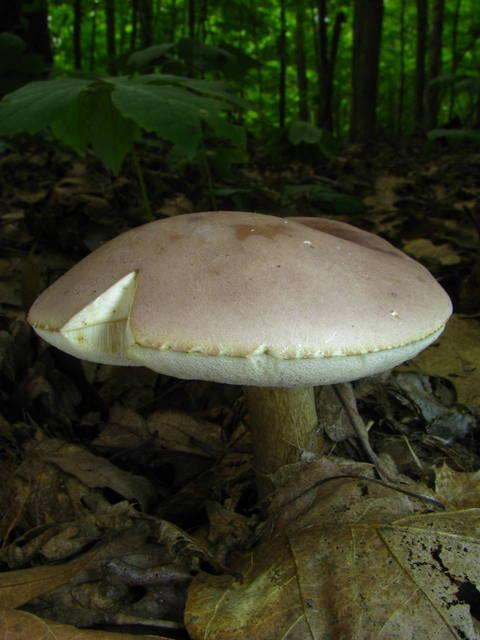poisonous_mushroom: (25, 208, 454, 504)
